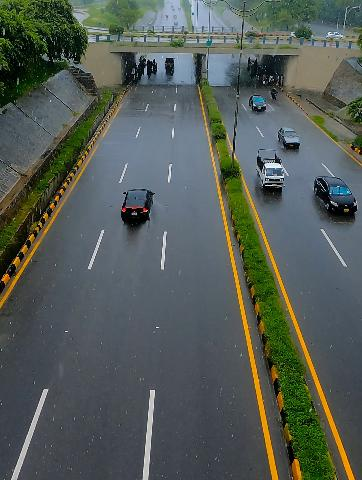car: (312, 173, 361, 222), (122, 186, 159, 228), (274, 123, 304, 155), (248, 92, 270, 118)
motorcycle: (271, 89, 280, 100)
pickup-truck: (253, 149, 290, 197)
